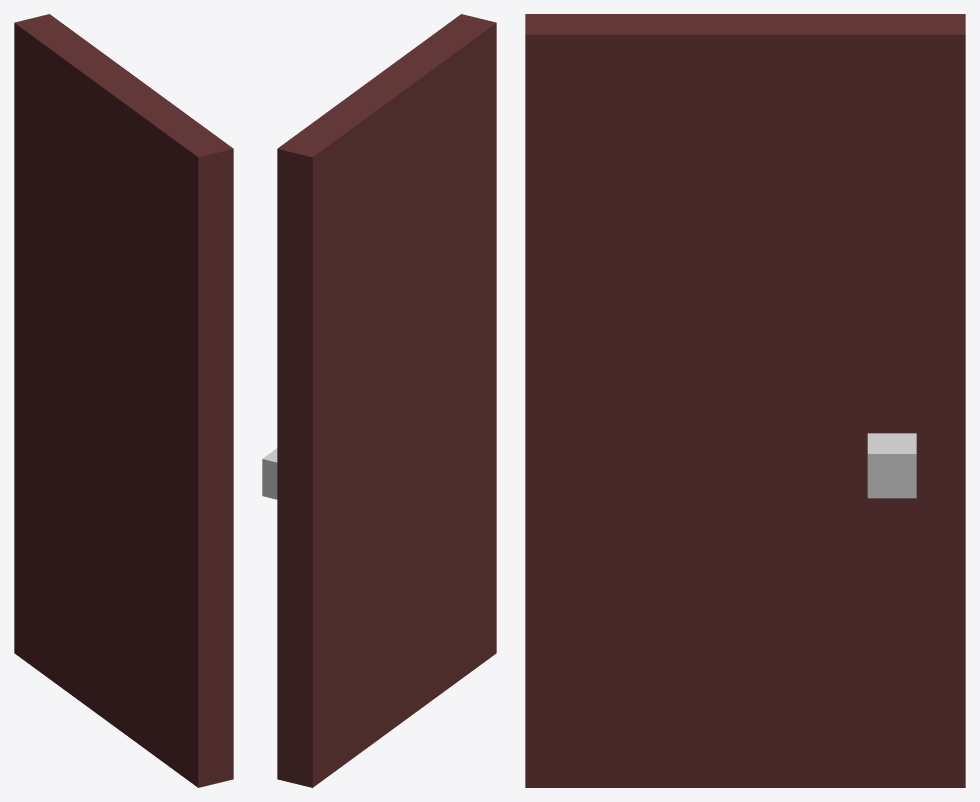
File: Bank-4.obj
The picture shows the model from 3 angles, left to right: view 1: azimuth 30°, elevation 25°; view 2: azimuth 150°, elevation 25°; view 3: azimuth 270°, elevation 25°; orthographic projection. The views are drawn at different scales.
Parts seen in each view (by area): view 1: Bank-4; view 2: Bank-4; view 3: Bank-4.
Part boxes in pixels (bbox=[...]): Bank-4: bbox=[14, 14, 233, 787]; Bank-4: bbox=[262, 14, 496, 787]; Bank-4: bbox=[525, 14, 965, 787].
Size of the model in its own units: 2 by 17 by 9.
